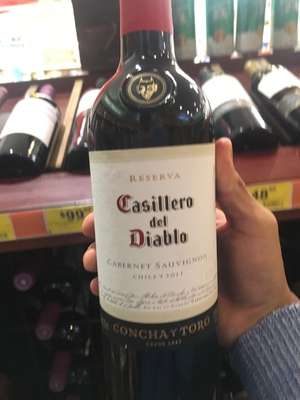casillero del diablo cabernet sauvignon: (86, 6, 229, 390)
